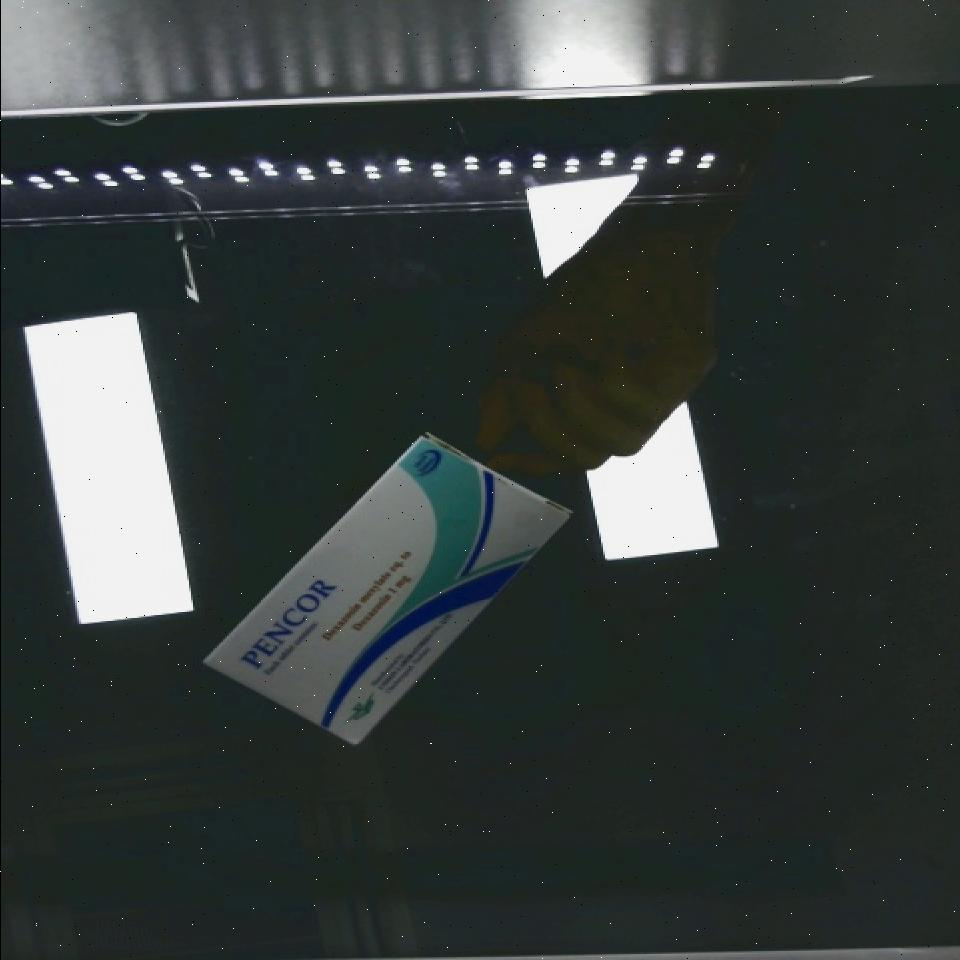medicine_box: (204, 396, 570, 778)
medicine_label_obb: (222, 551, 358, 687)
